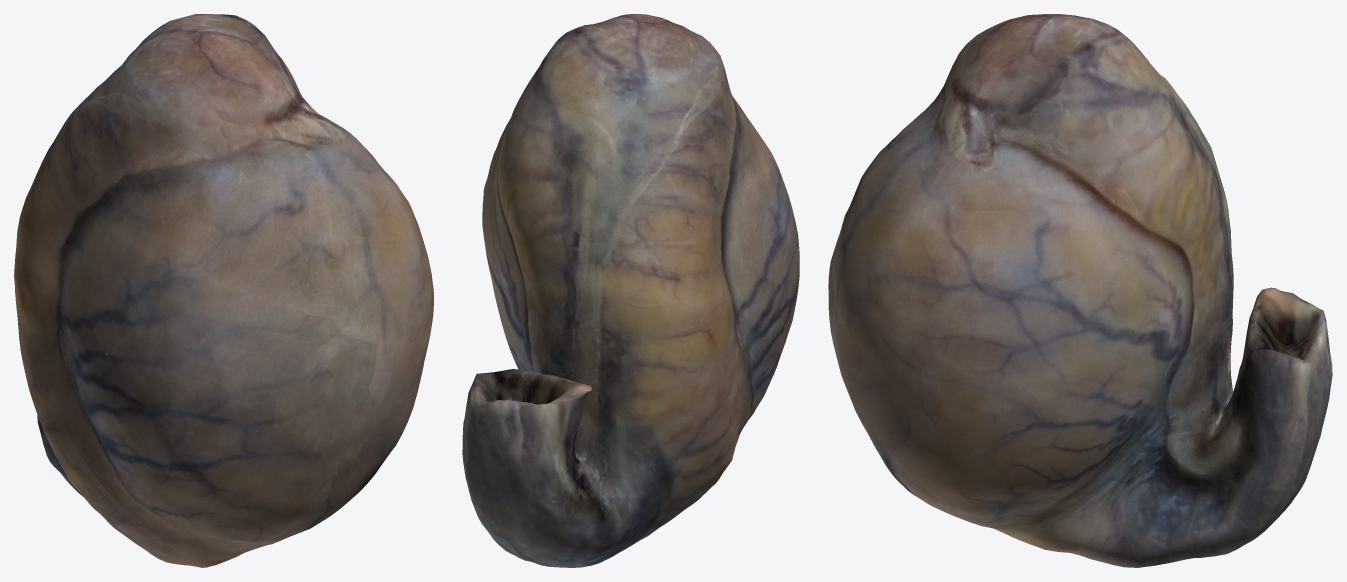
Rendered from testicule_de_chien.glb.
The picture shows the model from 3 angles, left to right: view 1: azimuth 30°, elevation 25°; view 2: azimuth 150°, elevation 25°; view 3: azimuth 270°, elevation 25°; orthographic projection. The views are drawn at different scales.
Visible parts, largest first — view 1: texturedMesh_0; view 2: texturedMesh_0; view 3: texturedMesh_0.
Boxes of the visible parts, bbox=[...] form: texturedMesh_0: bbox=[14, 14, 433, 567]; texturedMesh_0: bbox=[462, 14, 799, 567]; texturedMesh_0: bbox=[828, 14, 1332, 567].
Bounding box in the file's own units: 35.44 × 60.79 × 51.07.
1 material, 1 textured.
